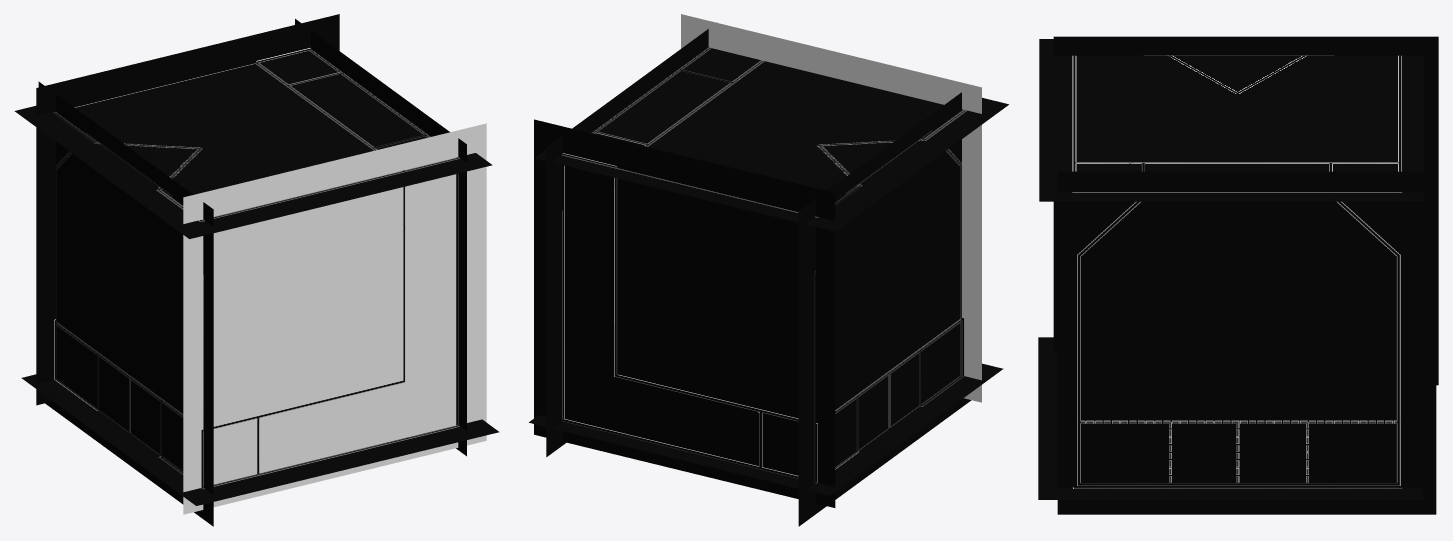
The model's file is N1_full.fbx.
The picture shows the model from 3 angles, left to right: view 1: azimuth 30°, elevation 25°; view 2: azimuth 150°, elevation 25°; view 3: azimuth 270°, elevation 25°; orthographic projection. The views are drawn at different scales.
Visible parts, largest first — view 1: N1_Lateral_Direita_Final, N1_Superior_Final, N1_Frontal_Final, N1_Lateral_Esquerda_Final, N1_Inferior_Final, N1_Traseira_Final; view 2: N1_Lateral_Esquerda_Final, N1_Frontal_Final, N1_Superior_Final, N1_Lateral_Direita_Final, N1_Traseira_Final, N1_Inferior_Final; view 3: N1_Traseira_Final, N1_Superior_Final, N1_Frontal_Final, N1_Inferior_Final.
Part boxes in pixels (x1,y1,x2,y2): N1_Lateral_Direita_Final: (183, 123, 486, 514); N1_Superior_Final: (14, 49, 492, 238); N1_Frontal_Final: (38, 81, 213, 526); N1_Lateral_Esquerda_Final: (36, 14, 339, 405); N1_Inferior_Final: (21, 374, 499, 505); N1_Traseira_Final: (295, 19, 466, 456); N1_Lateral_Esquerda_Final: (534, 119, 835, 507); N1_Frontal_Final: (798, 92, 971, 526); N1_Superior_Final: (534, 47, 1008, 231); N1_Lateral_Direita_Final: (681, 14, 981, 402); N1_Traseira_Final: (546, 22, 717, 457); N1_Inferior_Final: (529, 363, 1003, 495); N1_Traseira_Final: (1057, 171, 1436, 514); N1_Superior_Final: (1039, 39, 1424, 201); N1_Frontal_Final: (1053, 36, 1438, 385); N1_Inferior_Final: (1038, 337, 1423, 499).
Size of the model in its own units: 104 by 103 by 104.
